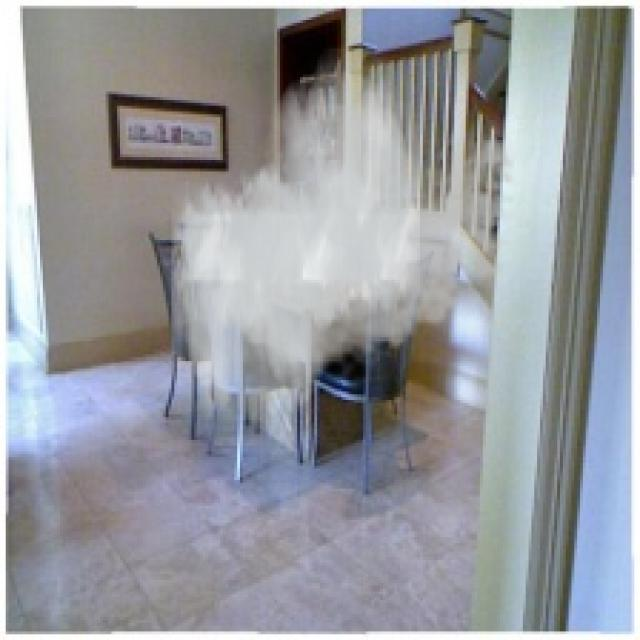smoke: (171, 48, 526, 446)
